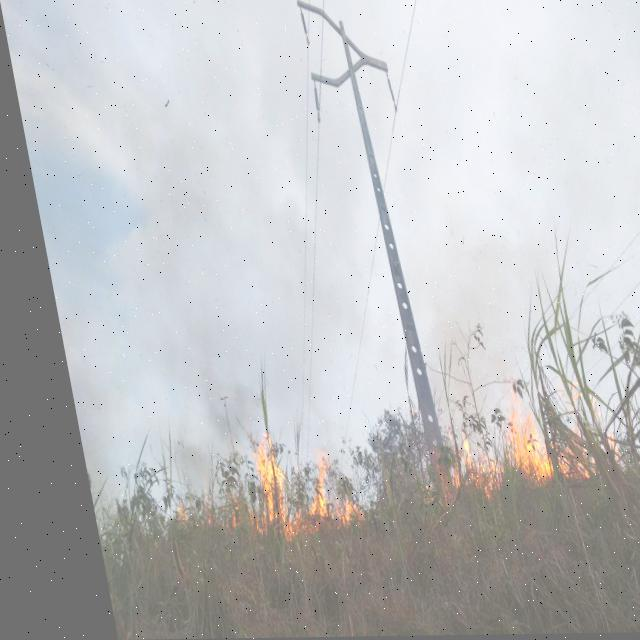Fire: (424, 384, 576, 496), (186, 436, 343, 538)
